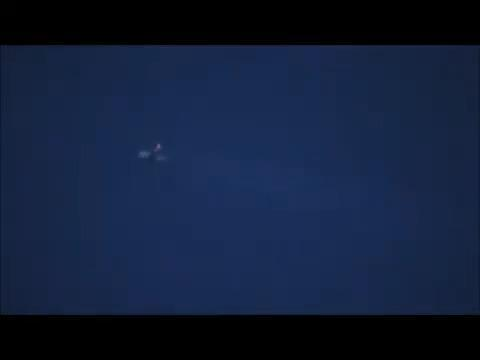Plane: (121, 134, 189, 172)
